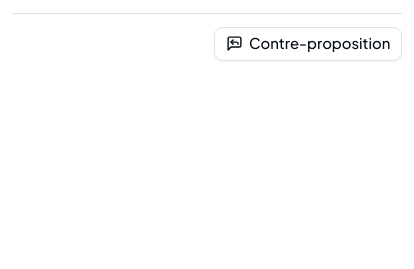
Scenario: OfferNegotiation › sends the requester's price, read from the box in cents
Later steps or results of the test are not shown.
What coordinates should you click on to do the following:
click the button "Contre-proposition"
I would click on:
 (308, 44)
Its box is 214,26 -> 402,60.
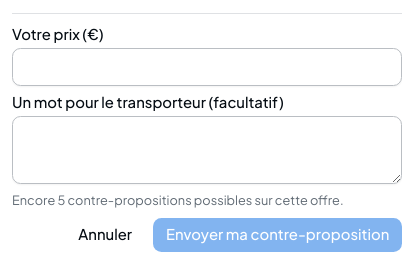
Now the button "Envoyer ma contre-proposition" is disabled, box 153,218 -> 402,252
